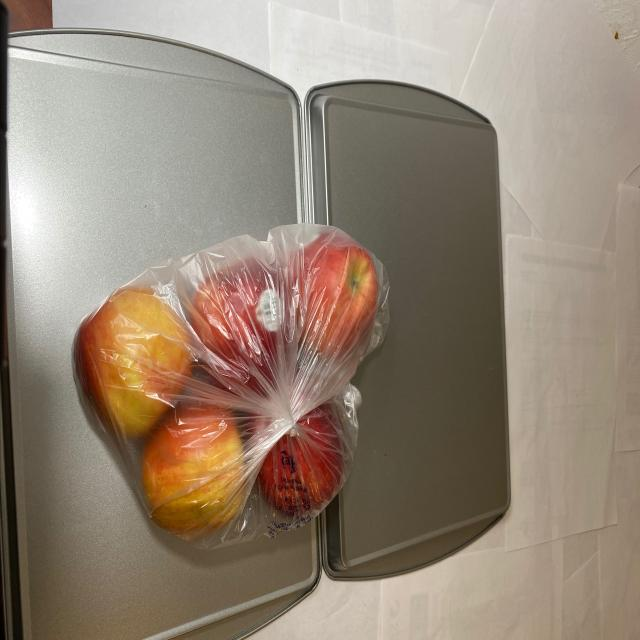apple: (72, 222, 381, 543)
